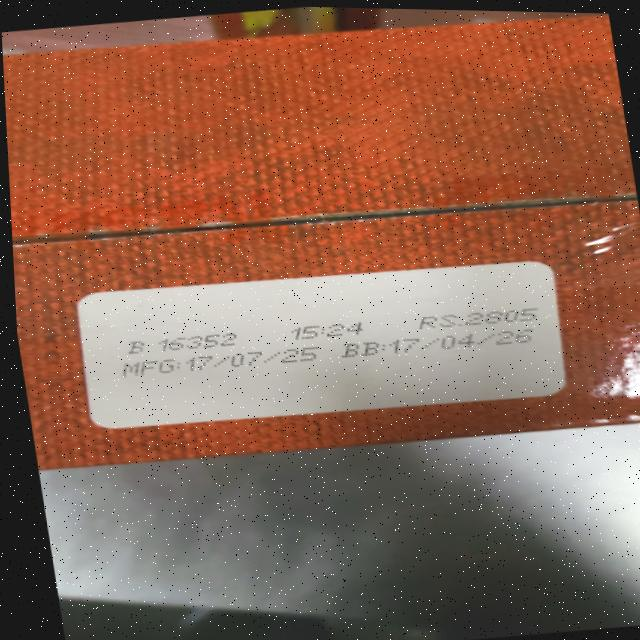BB: (342, 322, 543, 364)
Batch: (125, 328, 242, 357)
MFG: (121, 340, 326, 382)
RS: (414, 303, 544, 333)
TimeStamp: (288, 319, 367, 341)
